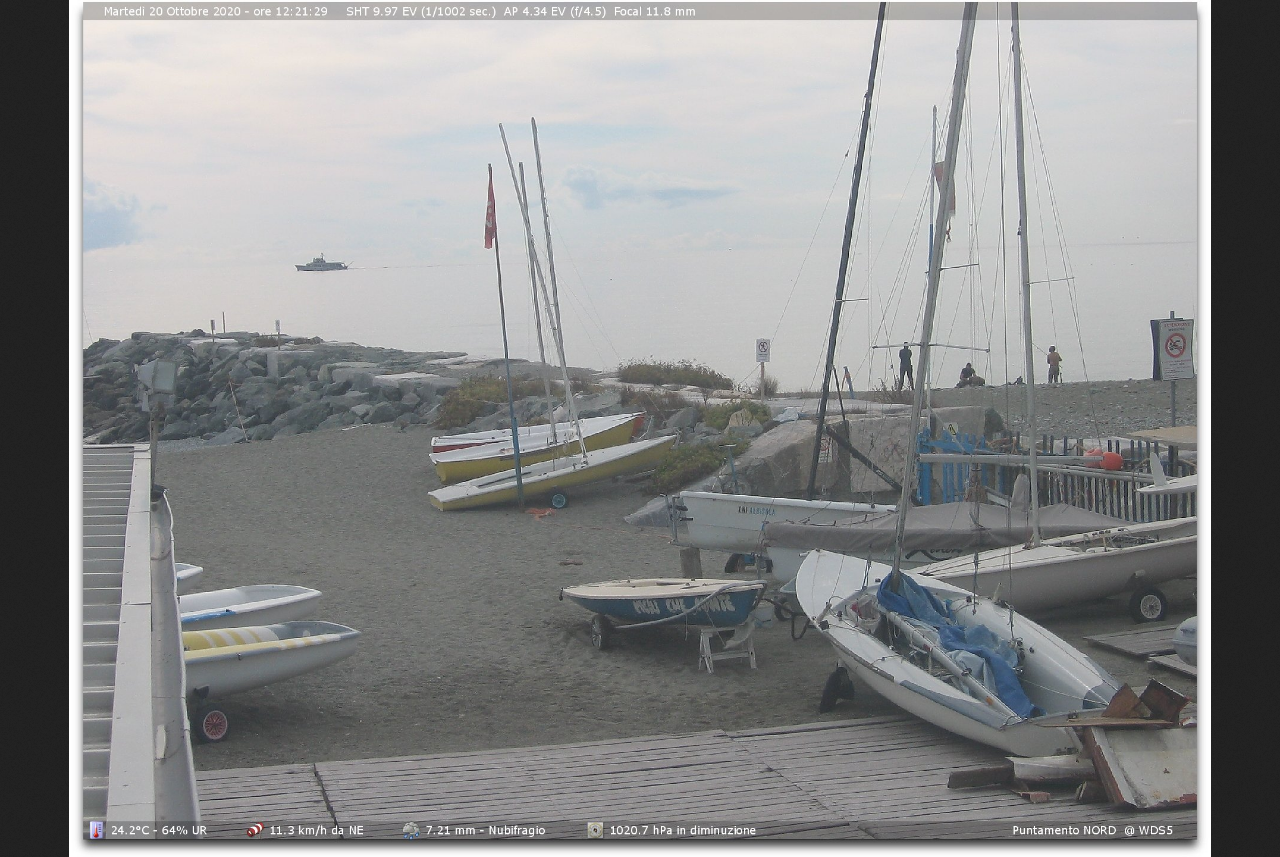no: (483, 172, 498, 245)
